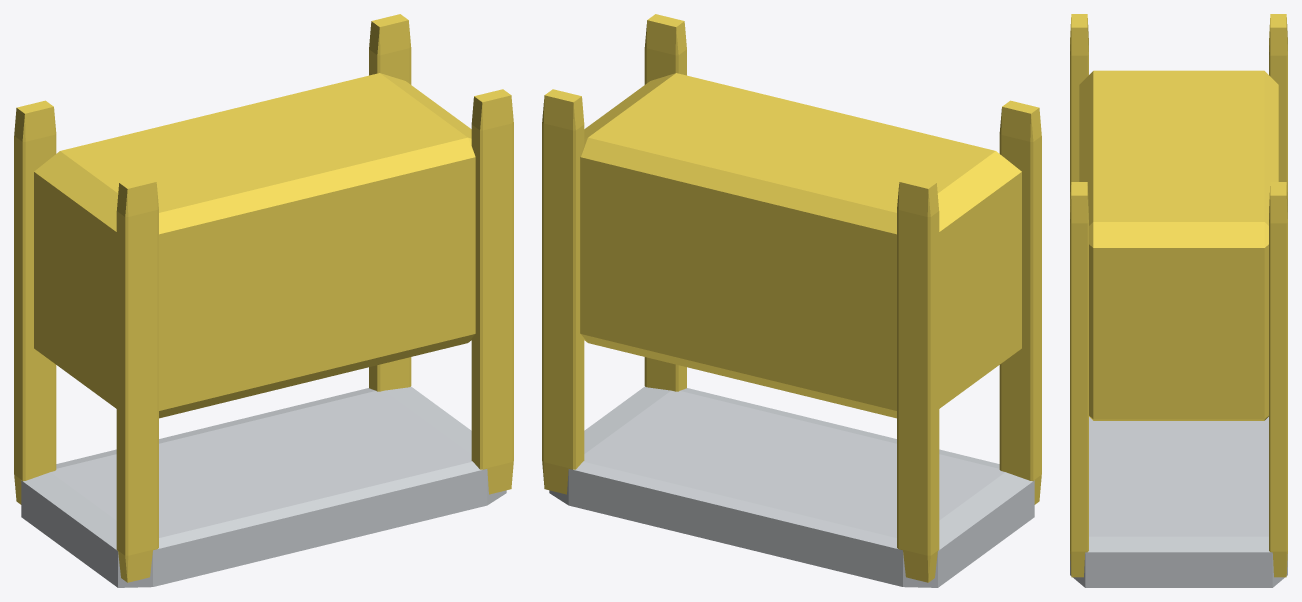
File: b07_scaffold_access_stair_tower.glb
3 views of the same model, side by side, from view 1: azimuth 30°, elevation 25°; view 2: azimuth 150°, elevation 25°; view 3: azimuth 270°, elevation 25° (orthographic). The views are drawn at different scales.
Parts seen in each view (by area): view 1: b07_scaffold_access_stair_tower; view 2: b07_scaffold_access_stair_tower; view 3: b07_scaffold_access_stair_tower.
Boxes of the visible parts, <box> form: b07_scaffold_access_stair_tower: <box>14,14,513,587</box>; b07_scaffold_access_stair_tower: <box>542,14,1041,587</box>; b07_scaffold_access_stair_tower: <box>1070,14,1287,587</box>.
Bounding box in the file's own units: 3.39 × 3.39 × 1.7.
